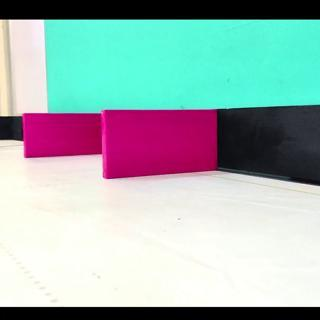xparking: (105, 112, 214, 170), (24, 115, 98, 153)
